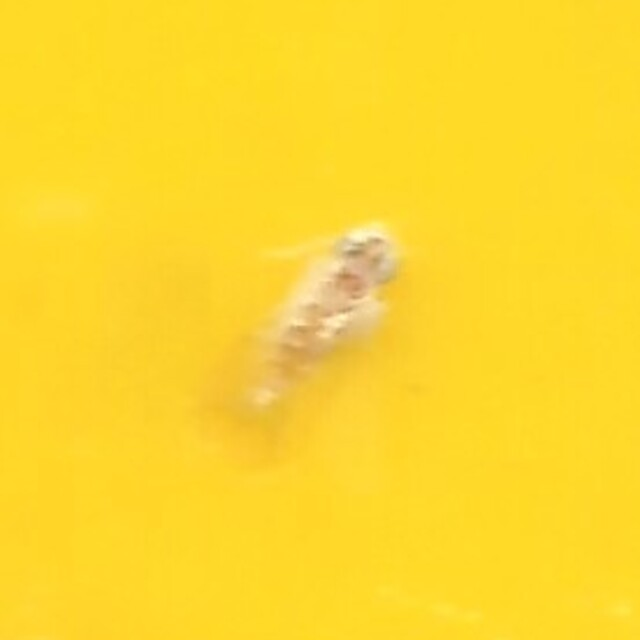Hemiptera: (232, 221, 408, 419)
